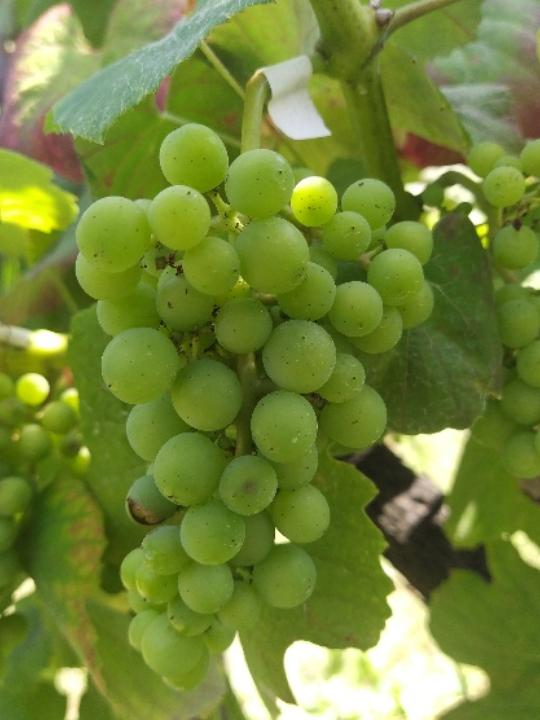grape: (72, 118, 438, 697)
